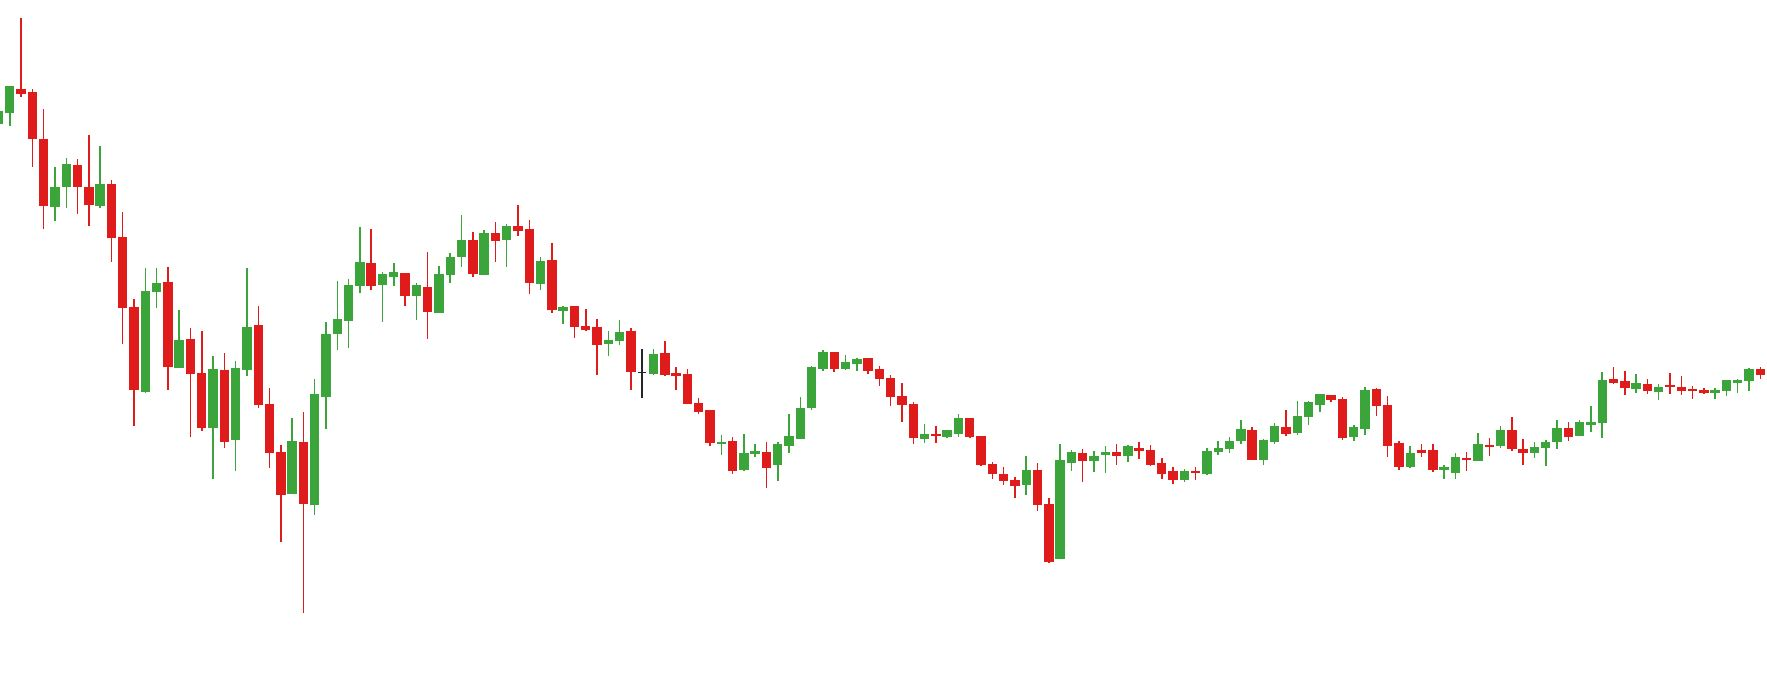buy: (205, 359, 298, 547)
